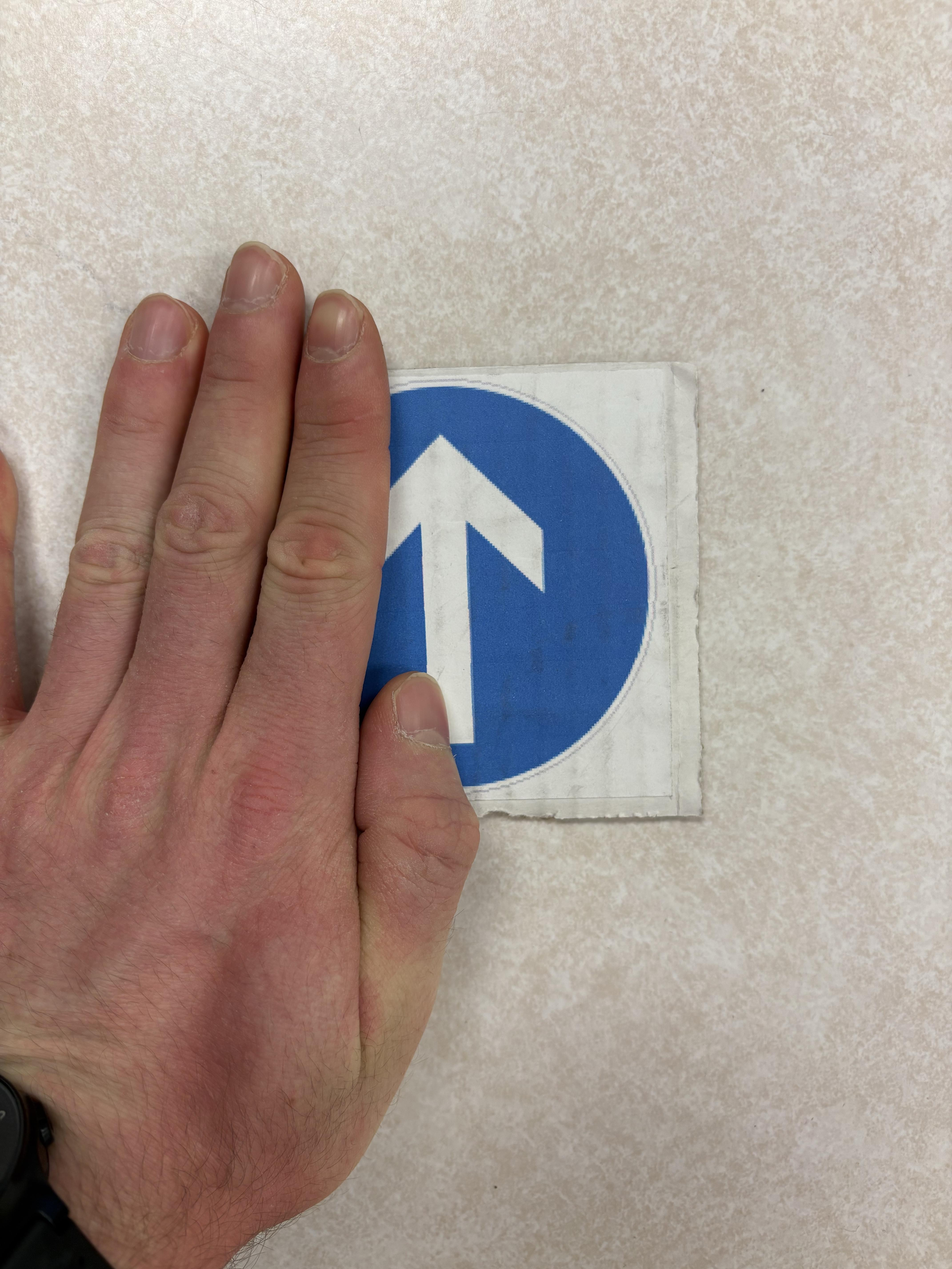Proceed Forward: (284, 481, 530, 1095)
